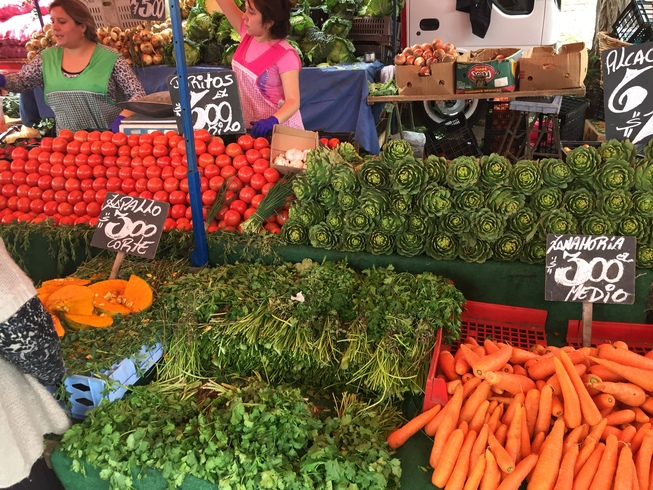precio: (540, 224, 638, 309), (161, 65, 249, 145), (87, 191, 172, 260)
